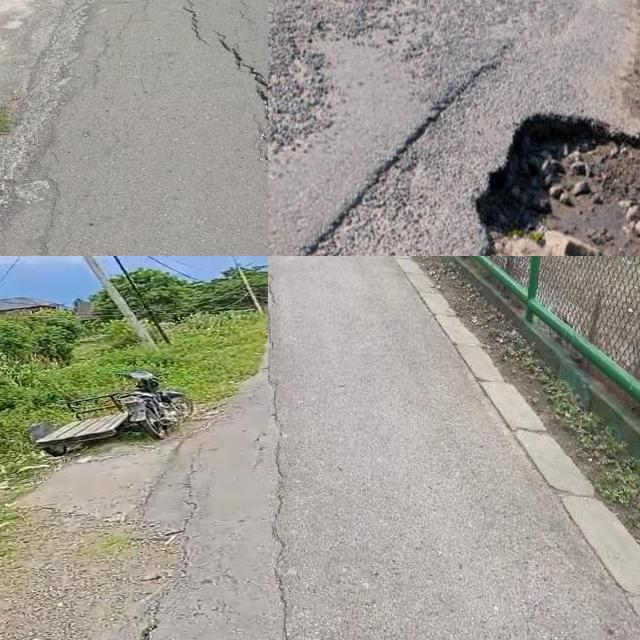Memanjang: (169, 0, 268, 225), (268, 256, 309, 640)
Pinggir: (58, 424, 229, 640), (467, 105, 640, 256)
